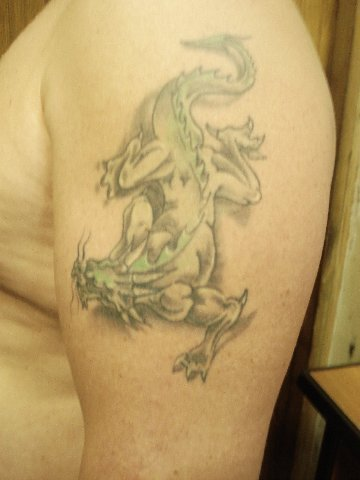tatu6_drakon: (70, 33, 283, 401)
